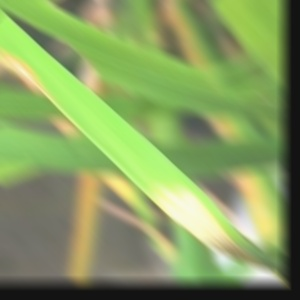Brown_Spot: (0, 39, 45, 89)
